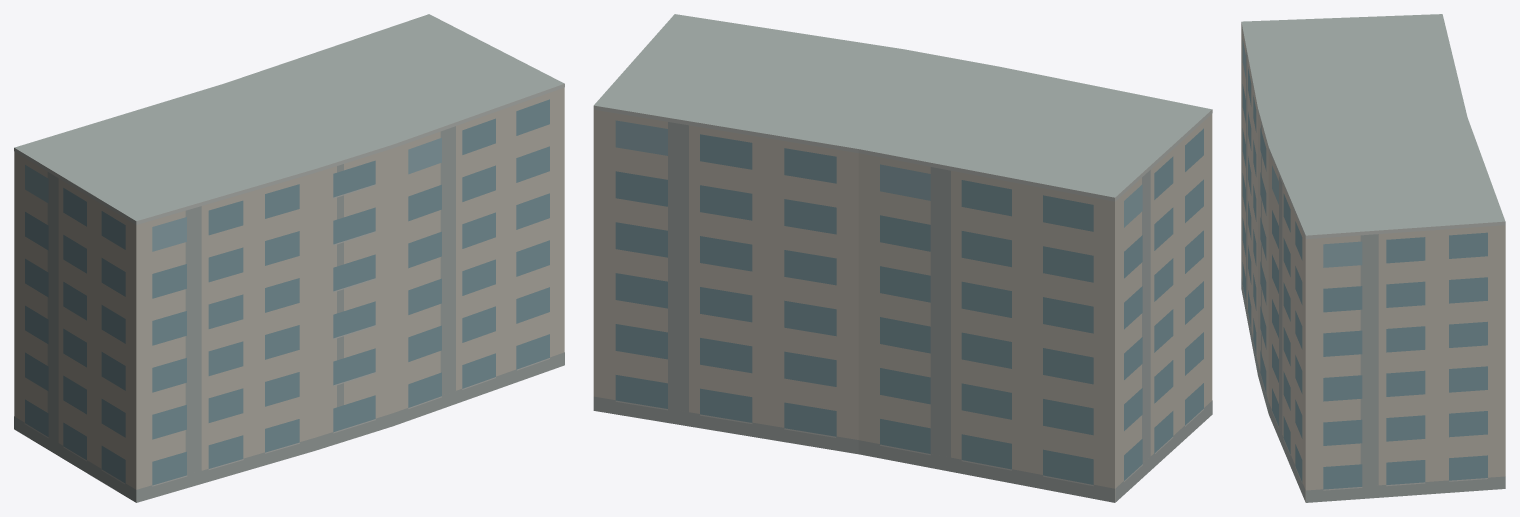
File: residential-b6c19c84-ee5f-434c-938c-52af8385abba.glb
3 renders of one model, left to right at view 1: azimuth 30°, elevation 25°; view 2: azimuth 150°, elevation 25°; view 3: azimuth 270°, elevation 25°, orthographic. The views are drawn at different scales.
Visible parts, largest first — view 1: residential-b6c19c84-ee5f-434c-938c-52af8385abba.tmp; view 2: residential-b6c19c84-ee5f-434c-938c-52af8385abba.tmp; view 3: residential-b6c19c84-ee5f-434c-938c-52af8385abba.tmp.
Boxes of the visible parts, x1,y1,x2,y2 form: residential-b6c19c84-ee5f-434c-938c-52af8385abba.tmp: (14,14,564,502); residential-b6c19c84-ee5f-434c-938c-52af8385abba.tmp: (593,14,1212,502); residential-b6c19c84-ee5f-434c-938c-52af8385abba.tmp: (1241,14,1505,502).
Bounding box in the file's own units: 32.01 × 18 × 16.13.
